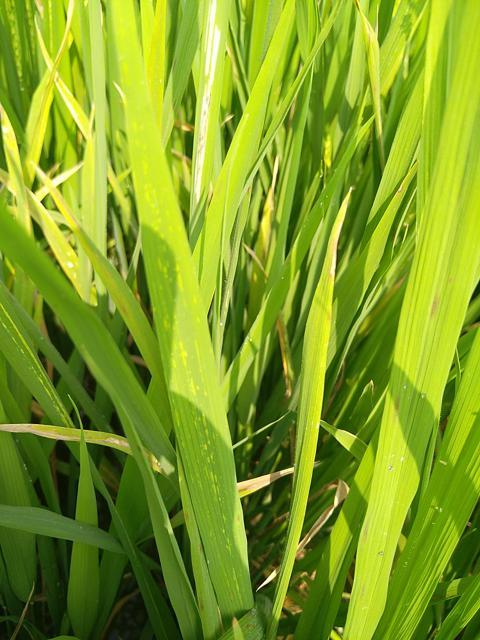Leaf Streak: (141, 158, 254, 639)
